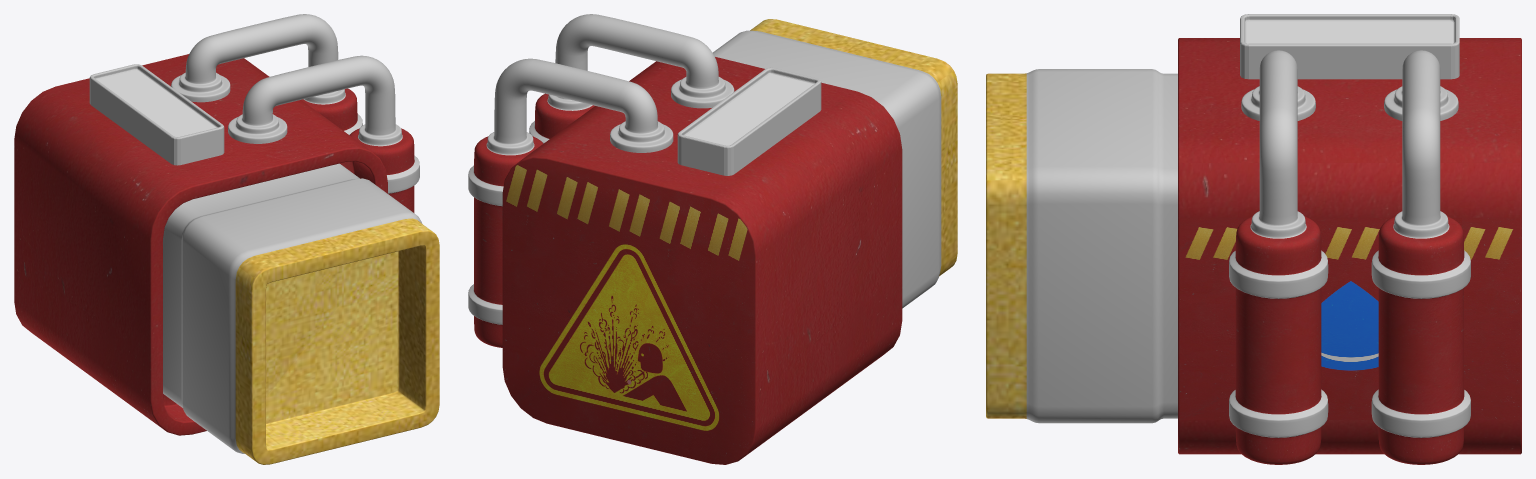
File: fire extinguisher.fbx
3 renders of one model, left to right at view 1: azimuth 30°, elevation 25°; view 2: azimuth 150°, elevation 25°; view 3: azimuth 270°, elevation 25°, orthographic. The views are drawn at different scales.
Parts seen in each view (by area): view 1: fire extinguisher; view 2: fire extinguisher; view 3: fire extinguisher.
Part boxes in pixels (x1,y1,x2,y2): fire extinguisher: (14, 14, 439, 464); fire extinguisher: (468, 14, 957, 464); fire extinguisher: (986, 14, 1521, 464).
Bounding box in the file's own units: 256 × 240 × 312.
